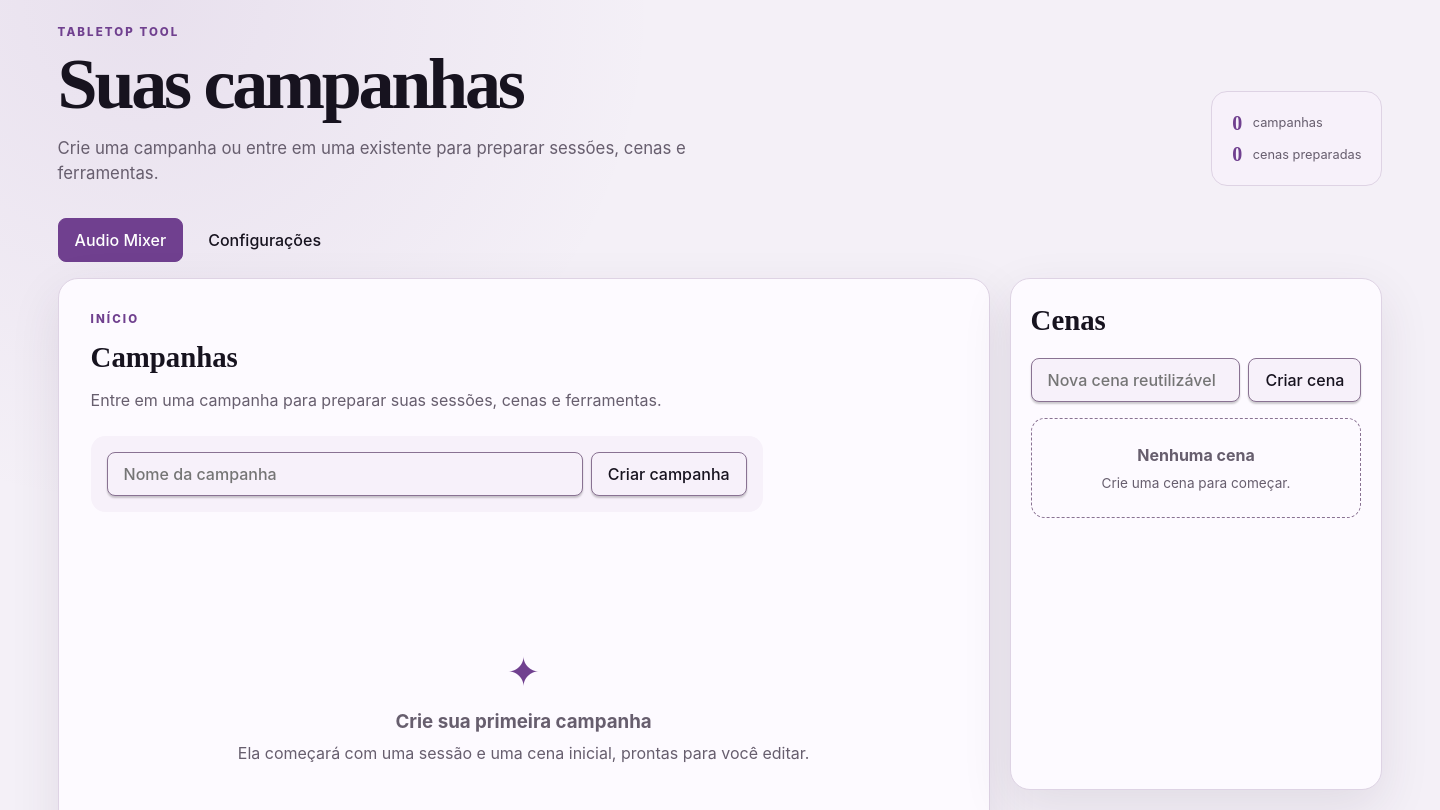
Test: Core workspace › creates a campaign and enters its workspace
This screenshot has width=1440, height=810.
Check: the heading "Crie sua primeira campanha" is shown, box 396,710 -> 652,733
Check: the button "Criar campanha" is enabled, box 591,452 -> 747,496
Type "Sombras do Norte" into the field named "Nome da nova campanha".
click(345, 474); type("Sombras do Norte")  # box 107,452 -> 583,496
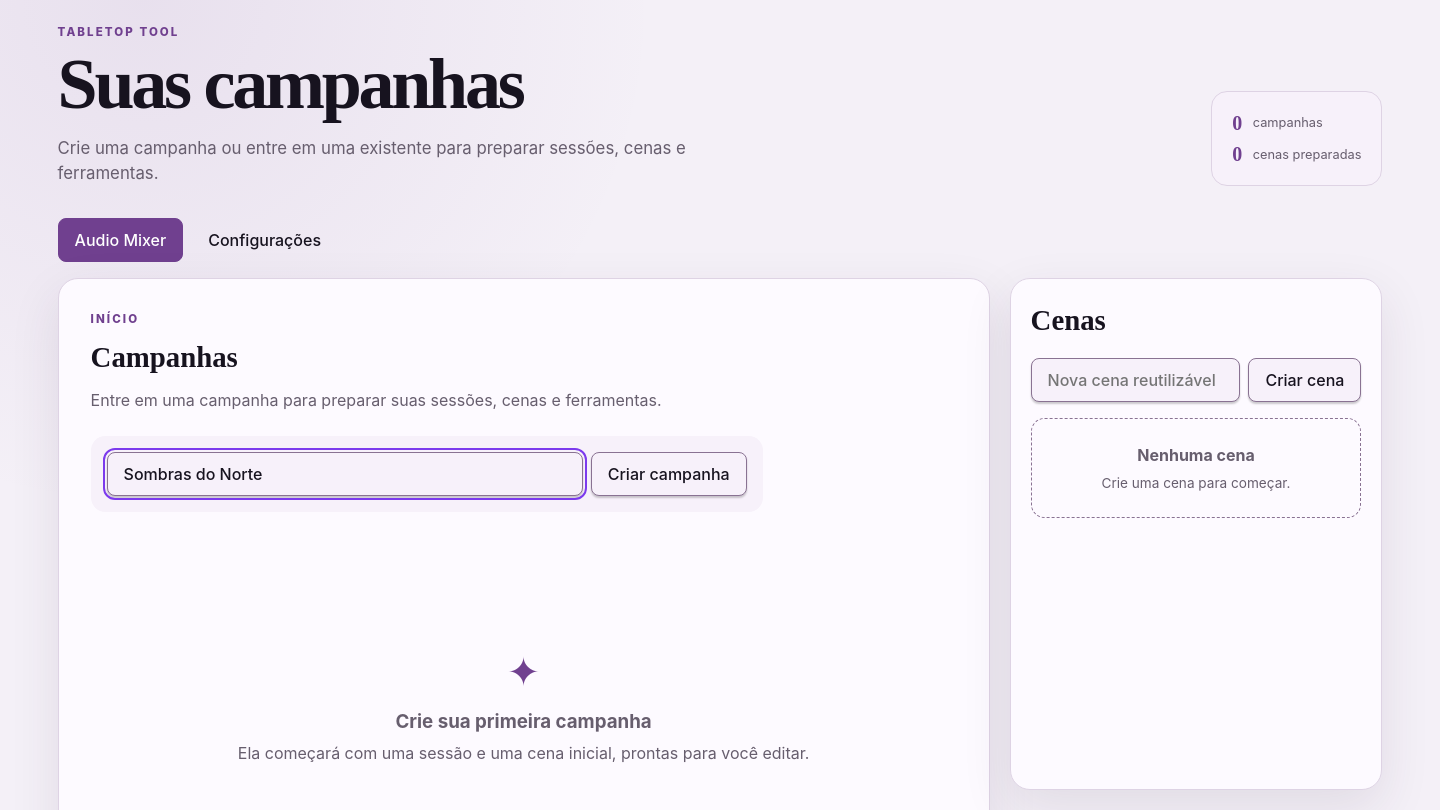
Click the button "Criar campanha".
click(669, 474)  # box 591,452 -> 747,496
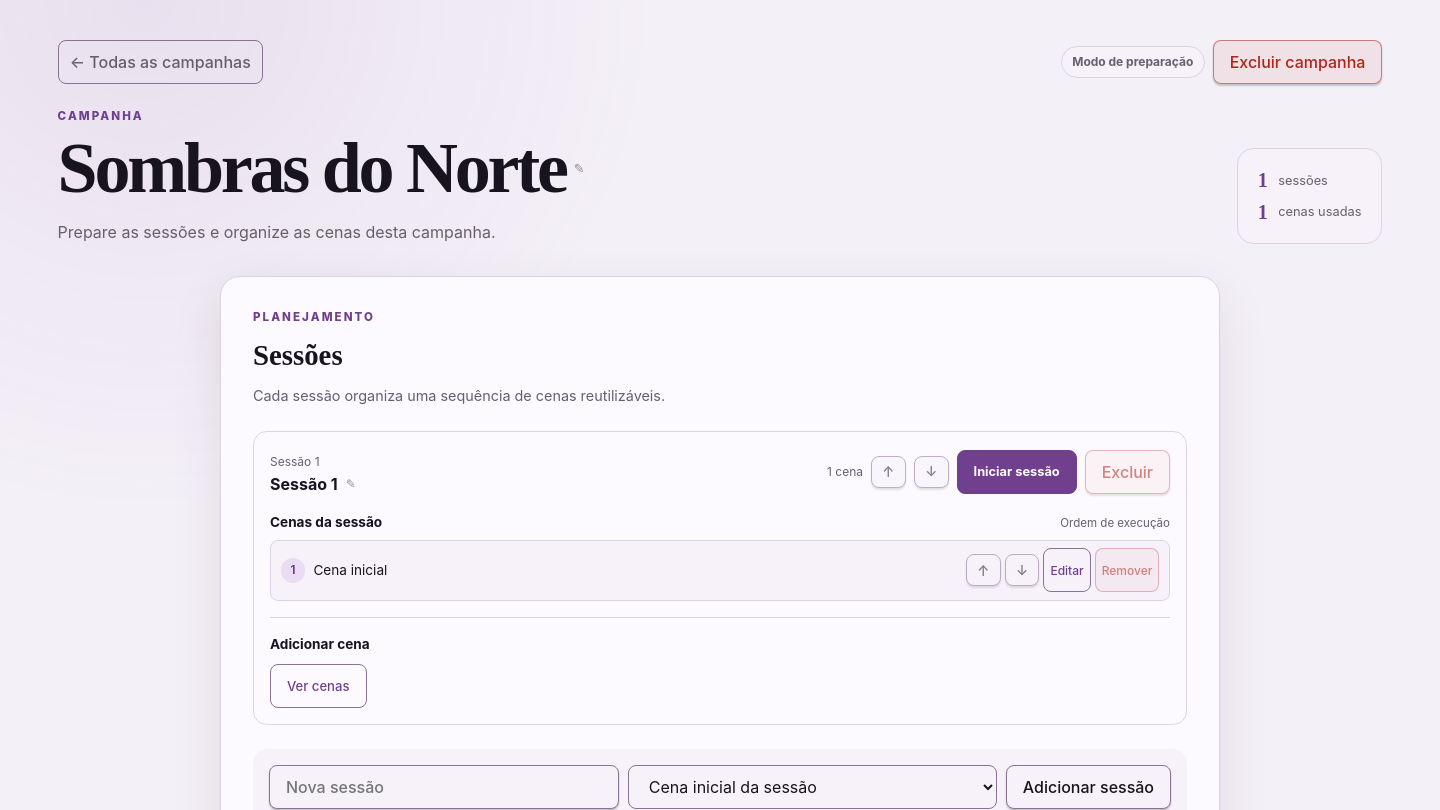
Check: the button "← Todas as campanhas" is shown, box 58,40 -> 263,84
Check: the heading "Sessão 1" is shown, box 270,472 -> 338,496
